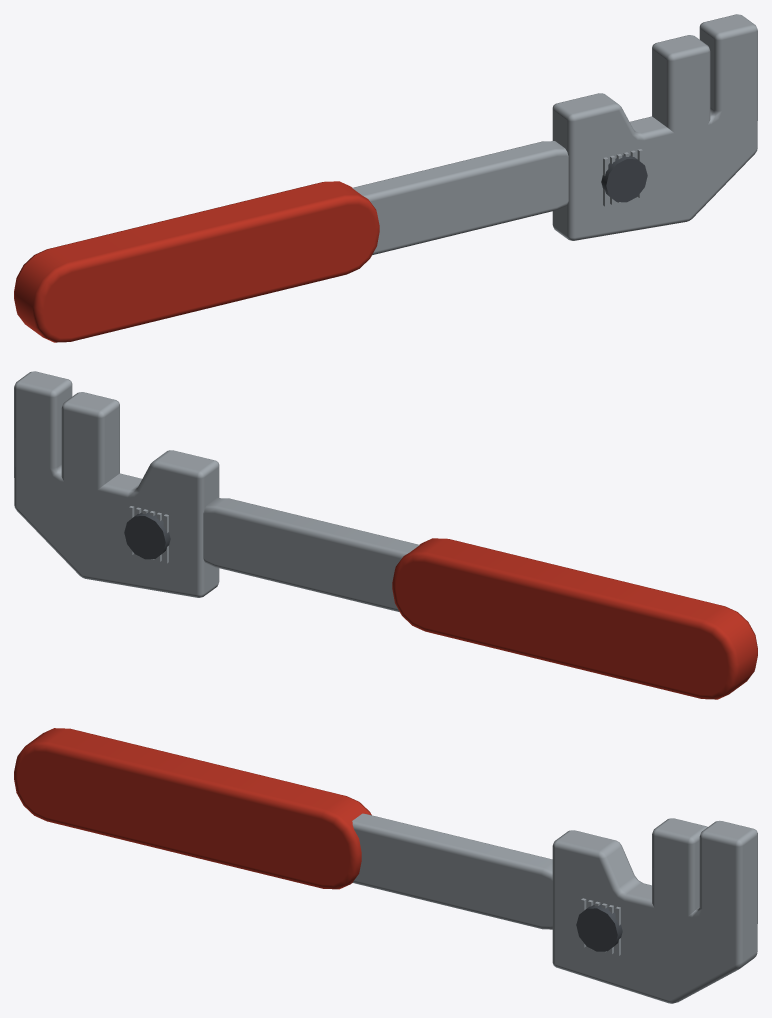
Rendered from Wrench.glb.
3 renders of one model, top to bottom at view 1: azimuth 30°, elevation 25°; view 2: azimuth 150°, elevation 25°; view 3: azimuth 330°, elevation 25°, orthographic.
Visible parts, largest first — view 1: Wrench_Body, Wrench_Jaw; view 2: Wrench_Body, Wrench_Jaw; view 3: Wrench_Body, Wrench_Jaw.
Part boxes in pixels (left/top/right/bottom): Wrench_Body: left=14, top=14, right=757, bottom=342; Wrench_Jaw: left=652, top=35, right=710, bottom=140; Wrench_Body: left=14, top=371, right=757, bottom=699; Wrench_Jaw: left=61, top=392, right=119, bottom=496; Wrench_Body: left=14, top=728, right=757, bottom=1003; Wrench_Jaw: left=652, top=818, right=707, bottom=921.
Size of the model in its own units: 0.42 by 0.0998 by 0.03.
